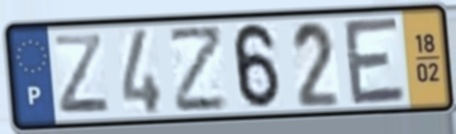2: (289, 18, 345, 109)
4: (119, 25, 165, 118)
6: (231, 20, 285, 114)
E: (340, 13, 410, 109)
Z: (166, 22, 230, 116), (50, 31, 114, 116)
